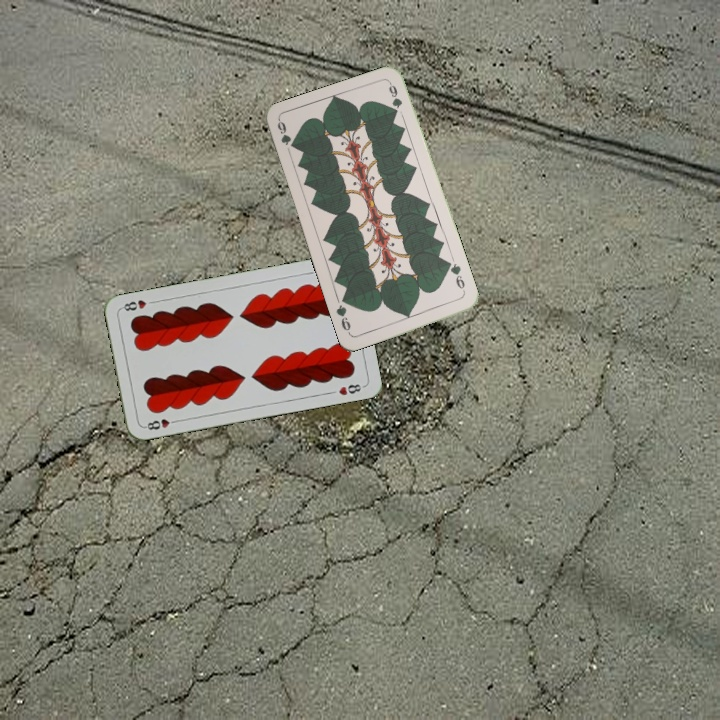G9: (445, 257, 468, 297), (273, 117, 297, 151)
H8: (140, 415, 181, 432)
